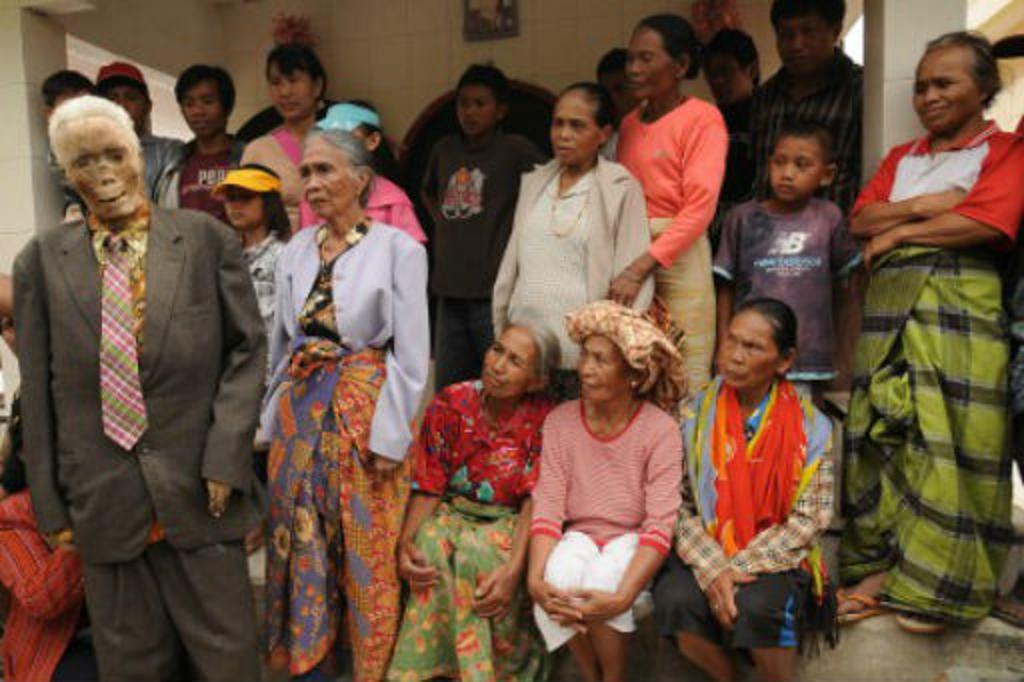face: (67, 122, 137, 219), (913, 51, 980, 131), (298, 140, 356, 215), (483, 332, 539, 398), (719, 324, 777, 386), (775, 12, 833, 71), (770, 138, 821, 201), (625, 37, 676, 97), (579, 337, 625, 402), (551, 102, 596, 165), (268, 62, 316, 118), (705, 56, 749, 102), (100, 85, 145, 129), (183, 83, 220, 136), (600, 69, 639, 116), (456, 87, 494, 135), (225, 186, 262, 227)
